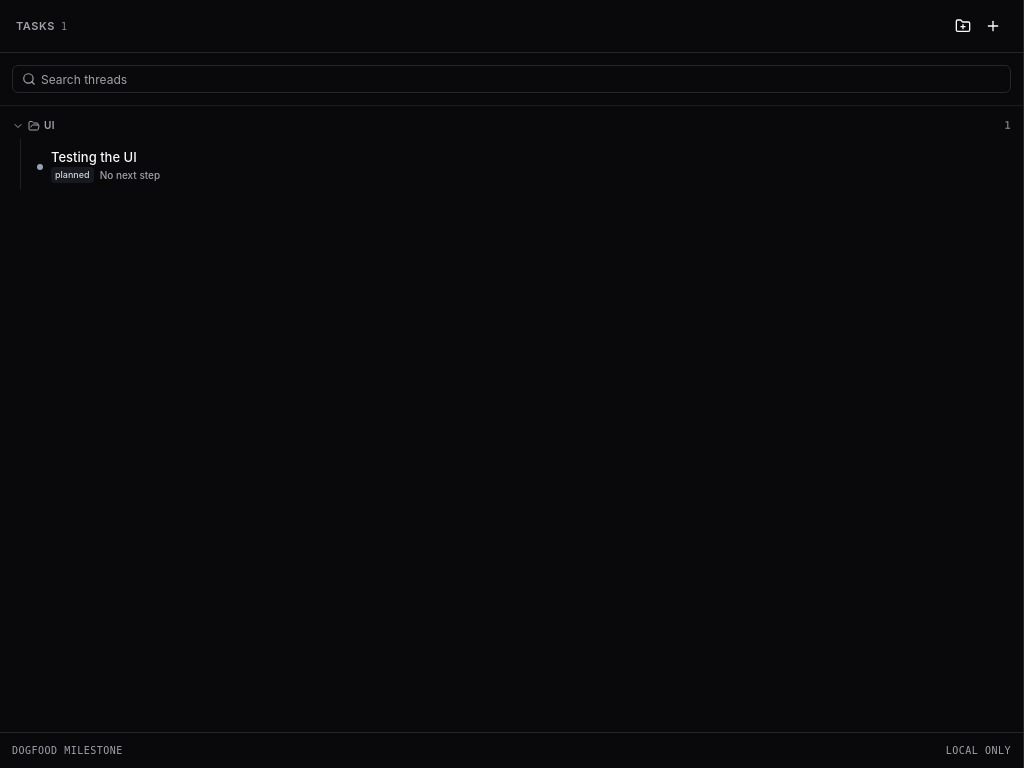
TaskSidebar › collapses and expands a folder without selecting a task
This screenshot has width=1024, height=768.
Click the button "UI 1". click: (18, 126)
box: [8,114,1015,137]
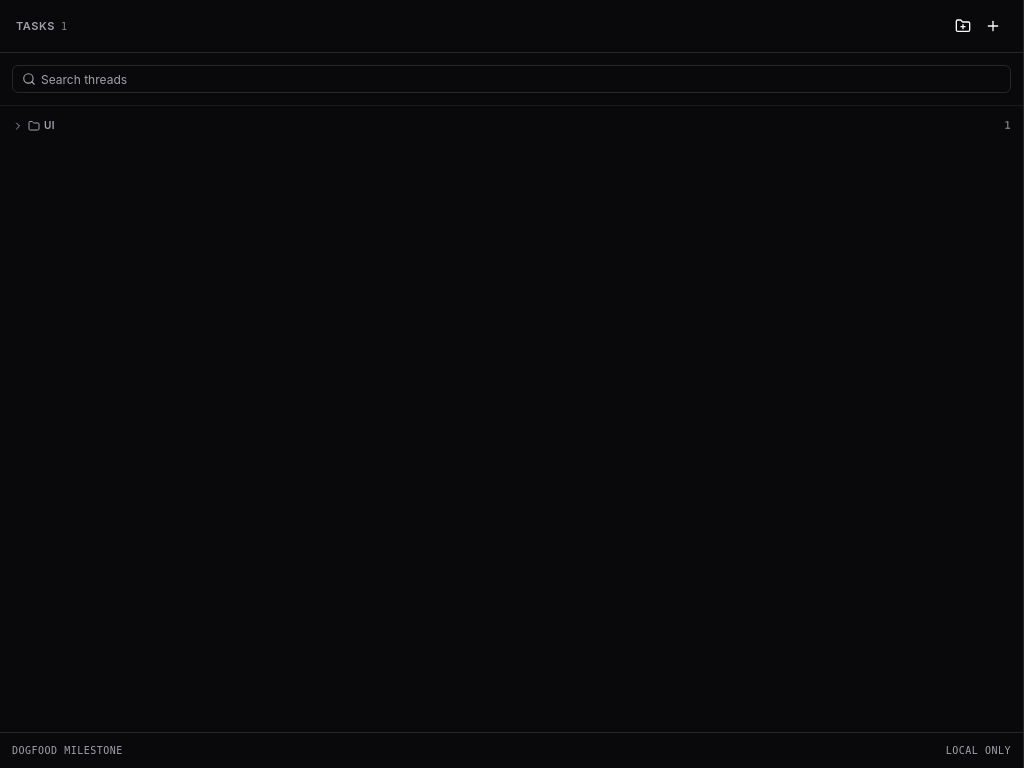
Expected: the button "UI 1" is collapsed
Expected: the button "Testing the UI" is gone
Click the button "UI 1". click: (18, 126)
box: [8,114,1015,137]
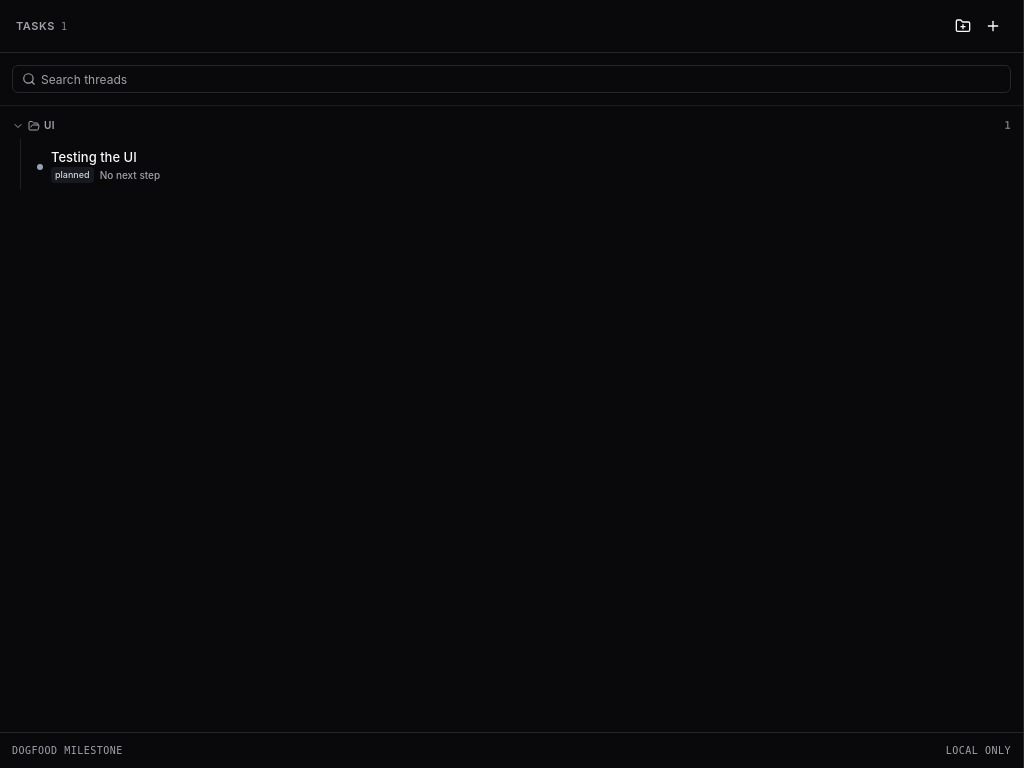
Expected: the button "UI 1" is expanded, [8,114,1015,137]
Expected: the text "Testing the UI" is shown, [51,149,137,165]
